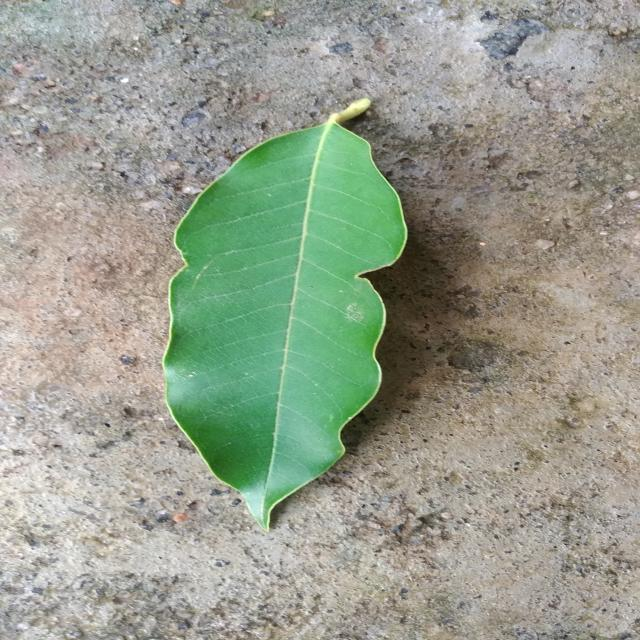coffee: (164, 99, 407, 529)
